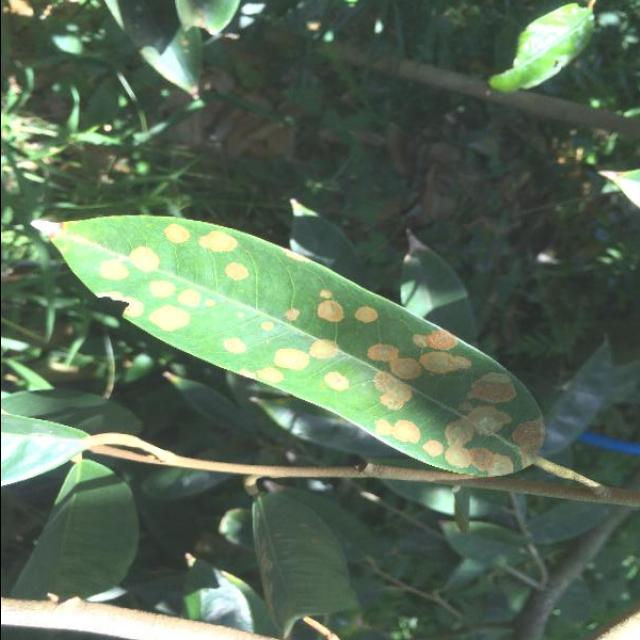Algal Leaf Spot: (17, 202, 561, 490)
